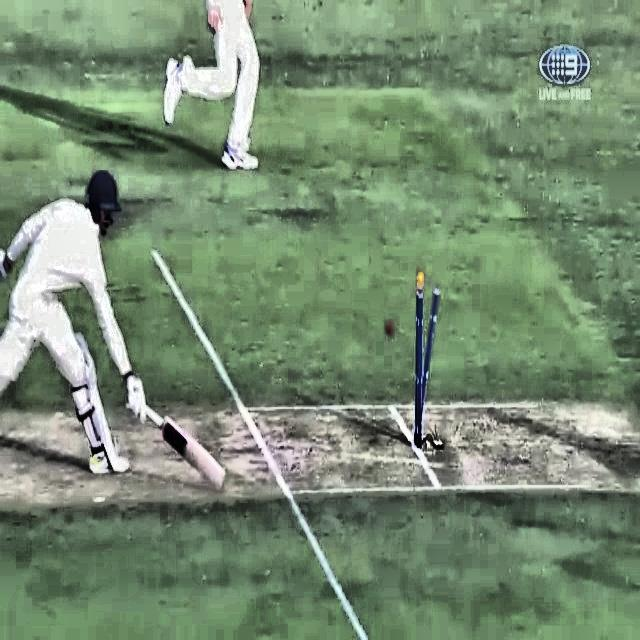Ball: (377, 313, 402, 341)
Bat: (133, 397, 232, 491)
Dis_Wicket: (410, 268, 444, 458)
Pitch_Line: (150, 246, 367, 640)
